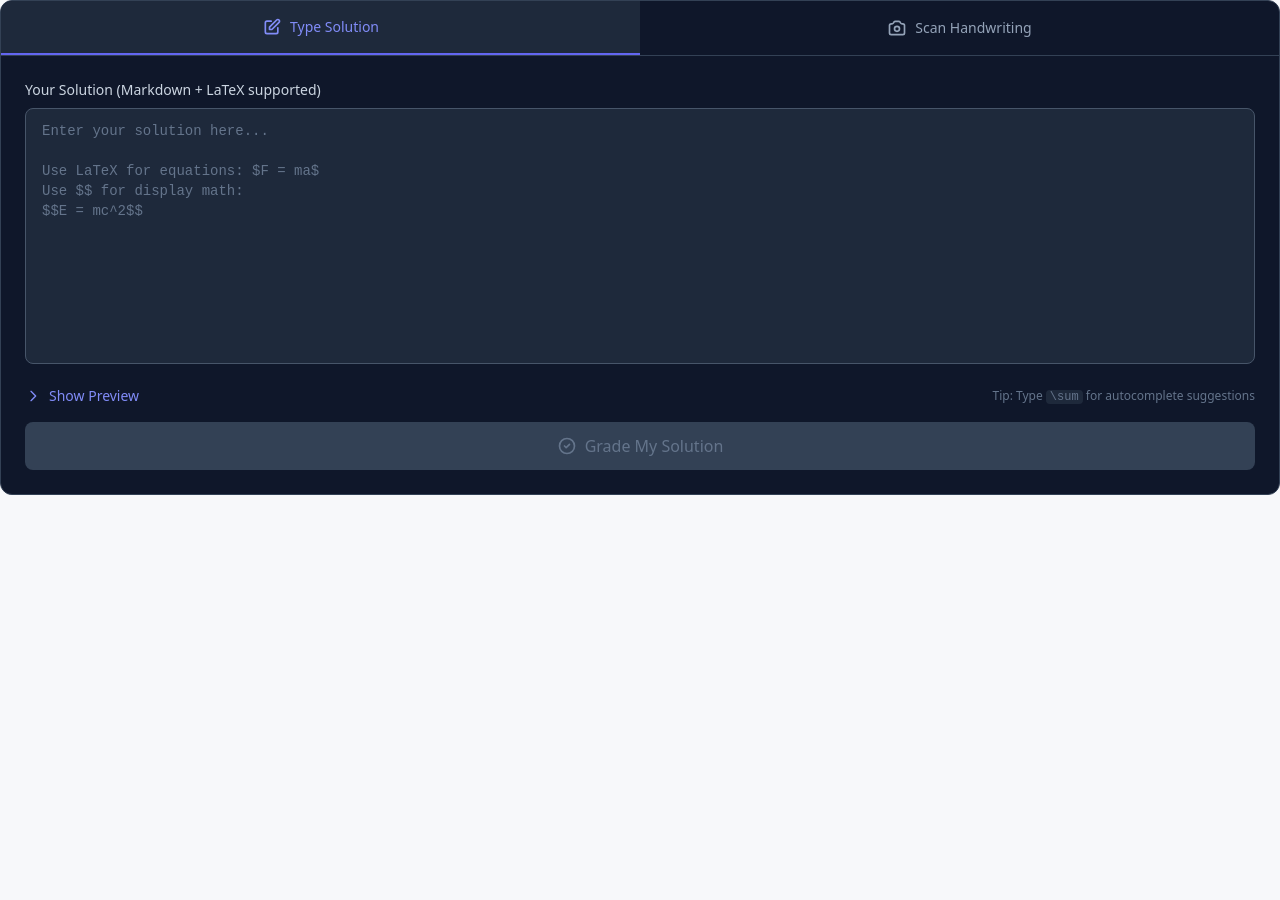
Scenario: SubmissionCanvas - ConstraintFeedback Integration › next action button icons › shows CHECK_CONSTRAINTS icon for constraint-focused next action
Replace the text in the text box with placeholder "Enter your solution here" with "a = g sin θ". click: (640, 236)
box: x1=25 y1=108 x2=1255 y2=364
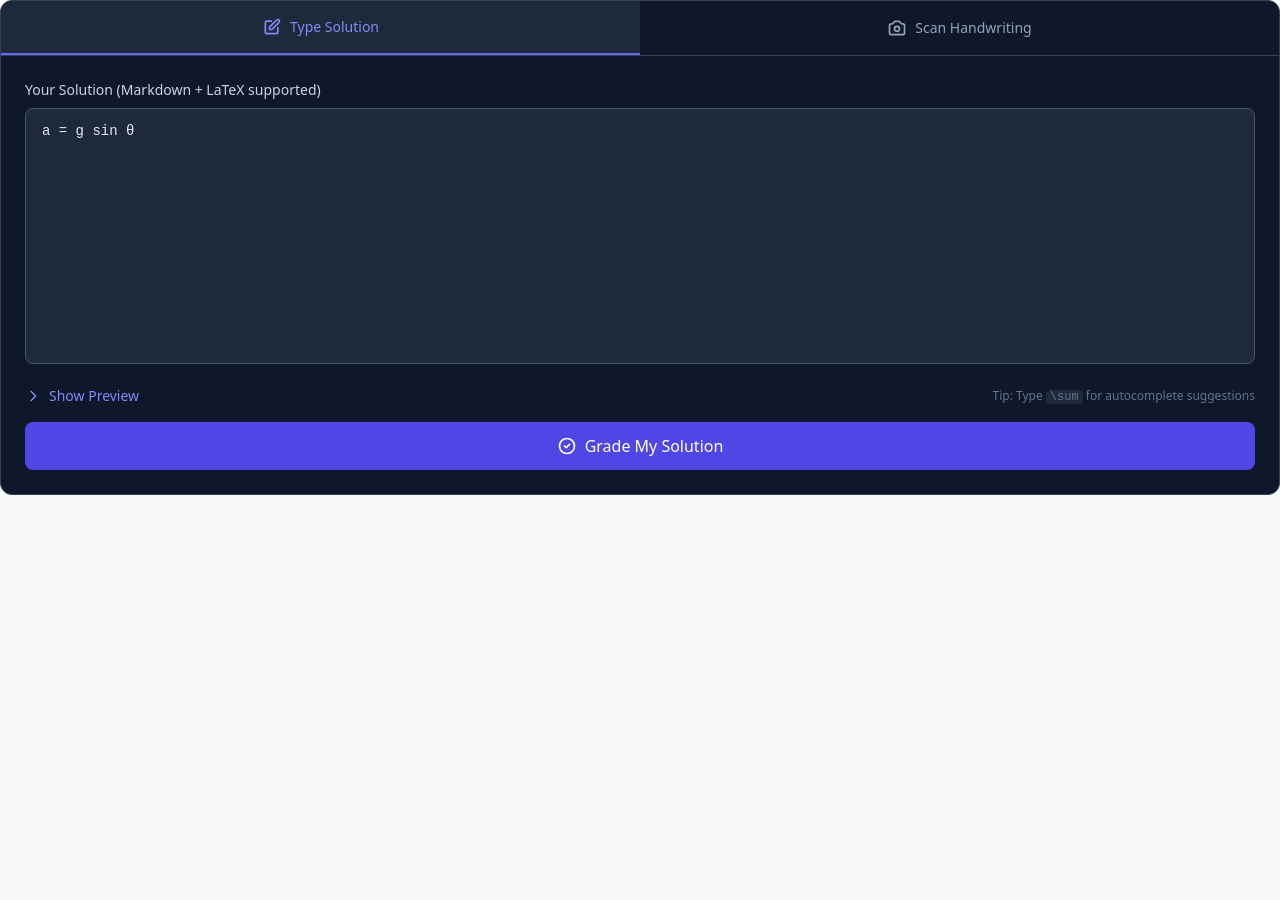
Click the button "Grade My Solution". click: (640, 446)
box: x1=25 y1=422 x2=1255 y2=470
(page scrolled)
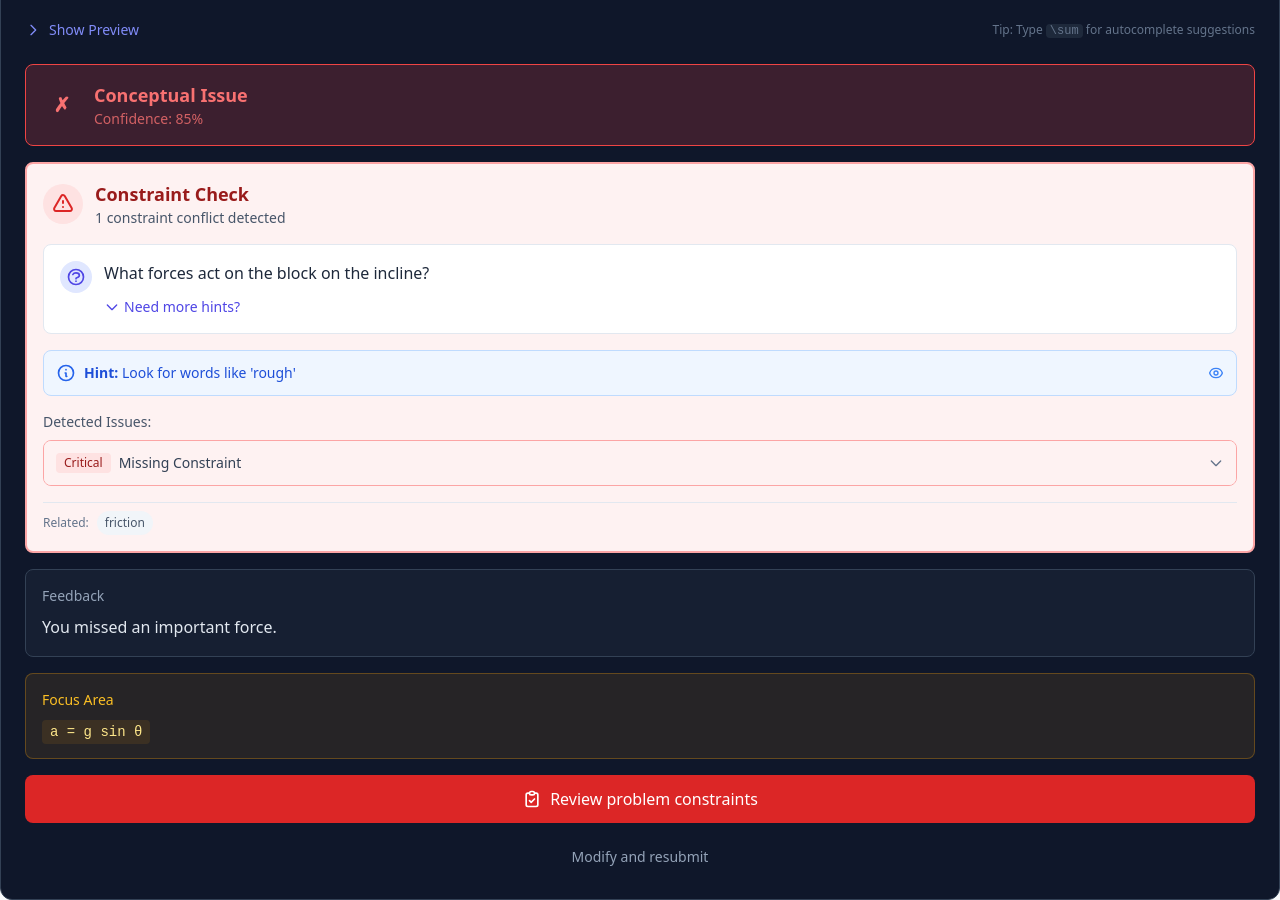
expect the 8th icon is shown: met, box x1=522 y1=789 x2=542 y2=809
expect the button "Review problem constraints" is shown: met, box x1=25 y1=775 x2=1255 y2=823
